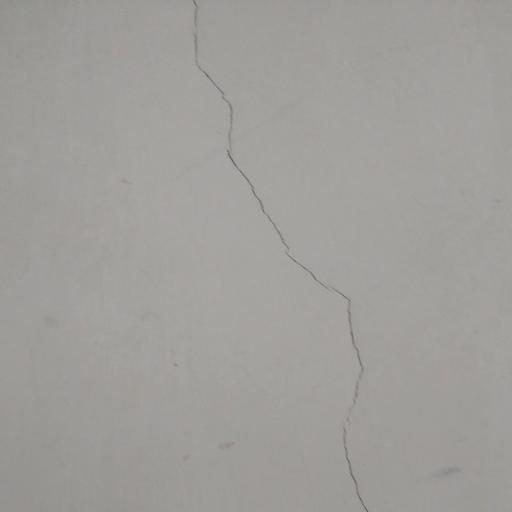minor_crack: (176, 0, 394, 512)
